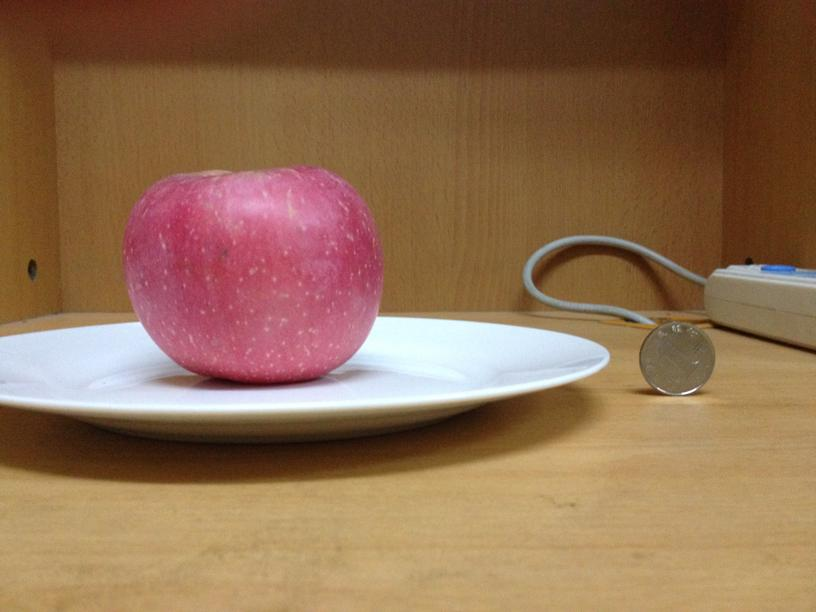apple: (122, 166, 382, 382)
coin: (639, 324, 715, 397)
